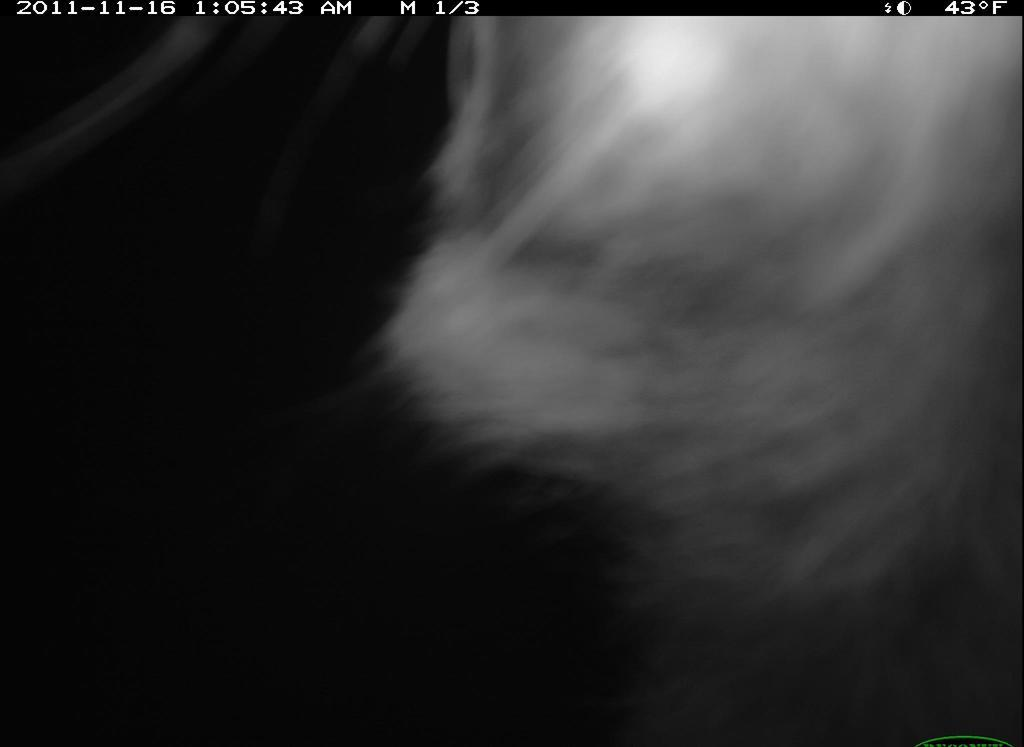raccoon: (379, 13, 1018, 747)
